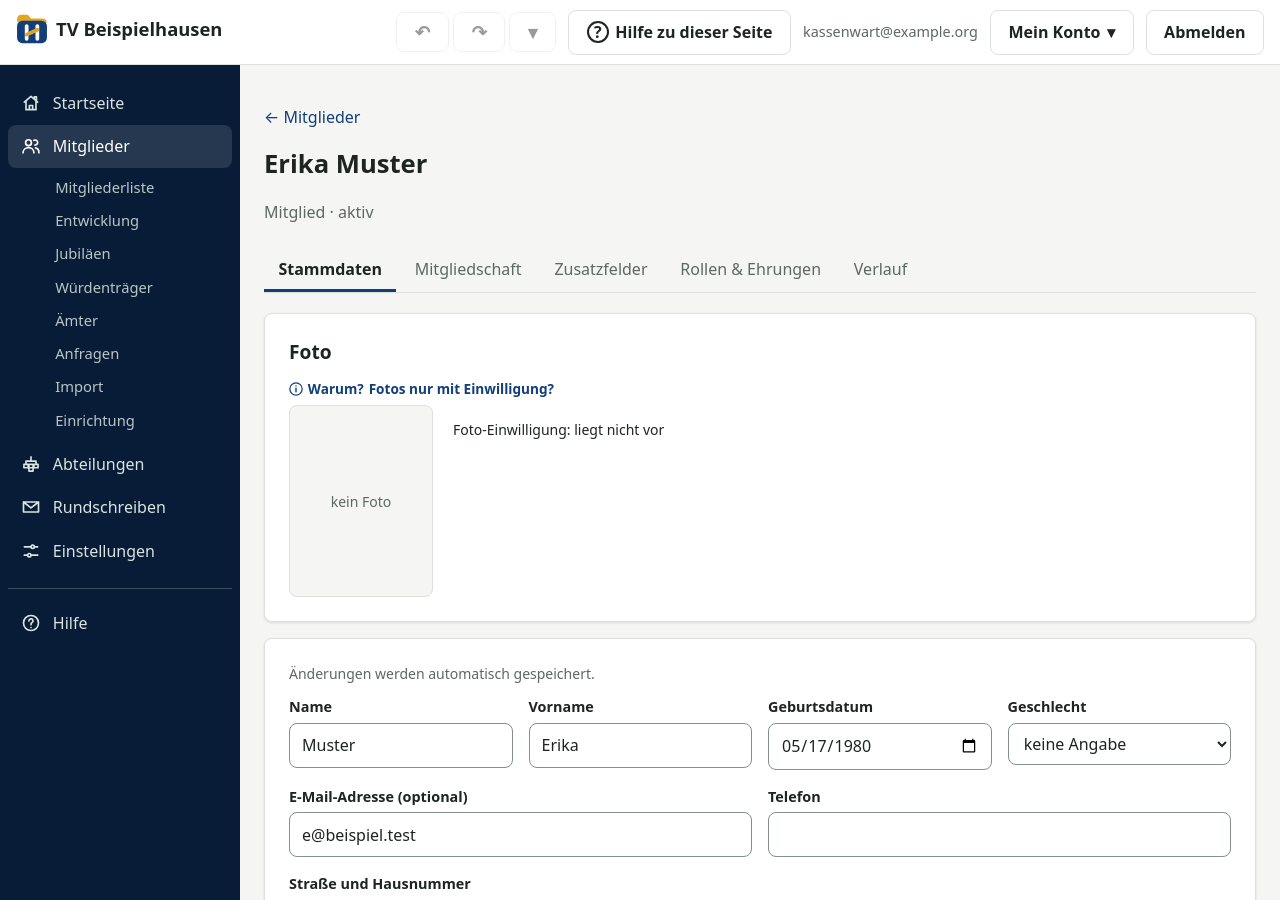
Rückgängig und Wiederherstellen › nimmt die letzte Änderung zurück und stellt sie wieder her
Expected: the button named "Letzte Änderung rückgängig machen" is disabled, top-left (396, 12), bottom-right (449, 52)
Replace the text in the field labelled "Vorname" with "Erica" at (640, 745), box top-left (528, 722), bottom-right (752, 768)
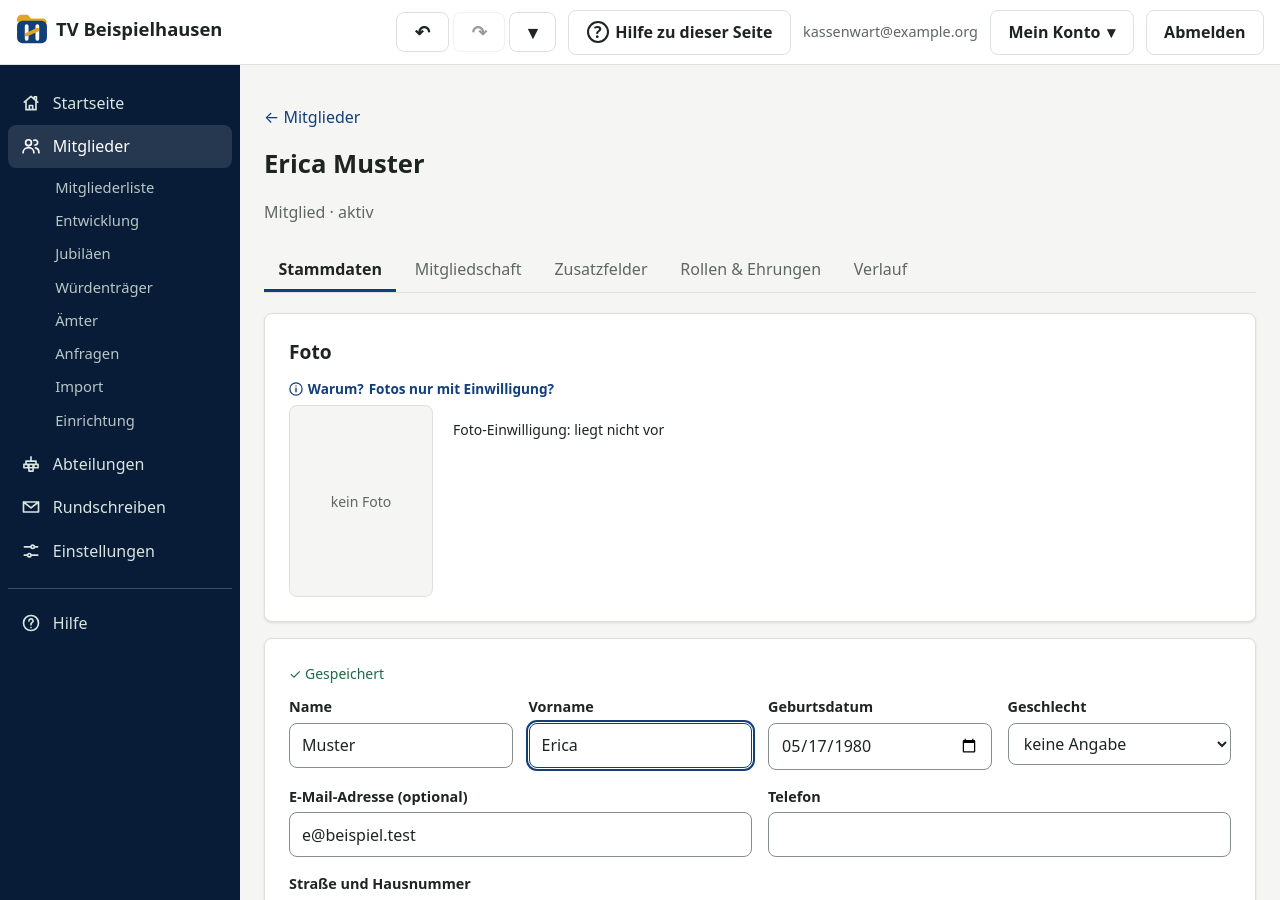
Now the button named "Letzte Änderung rückgängig machen" is enabled
Click the button named "Letzte Änderung rückgängig machen" at (423, 32), box top-left (396, 12), bottom-right (449, 52)
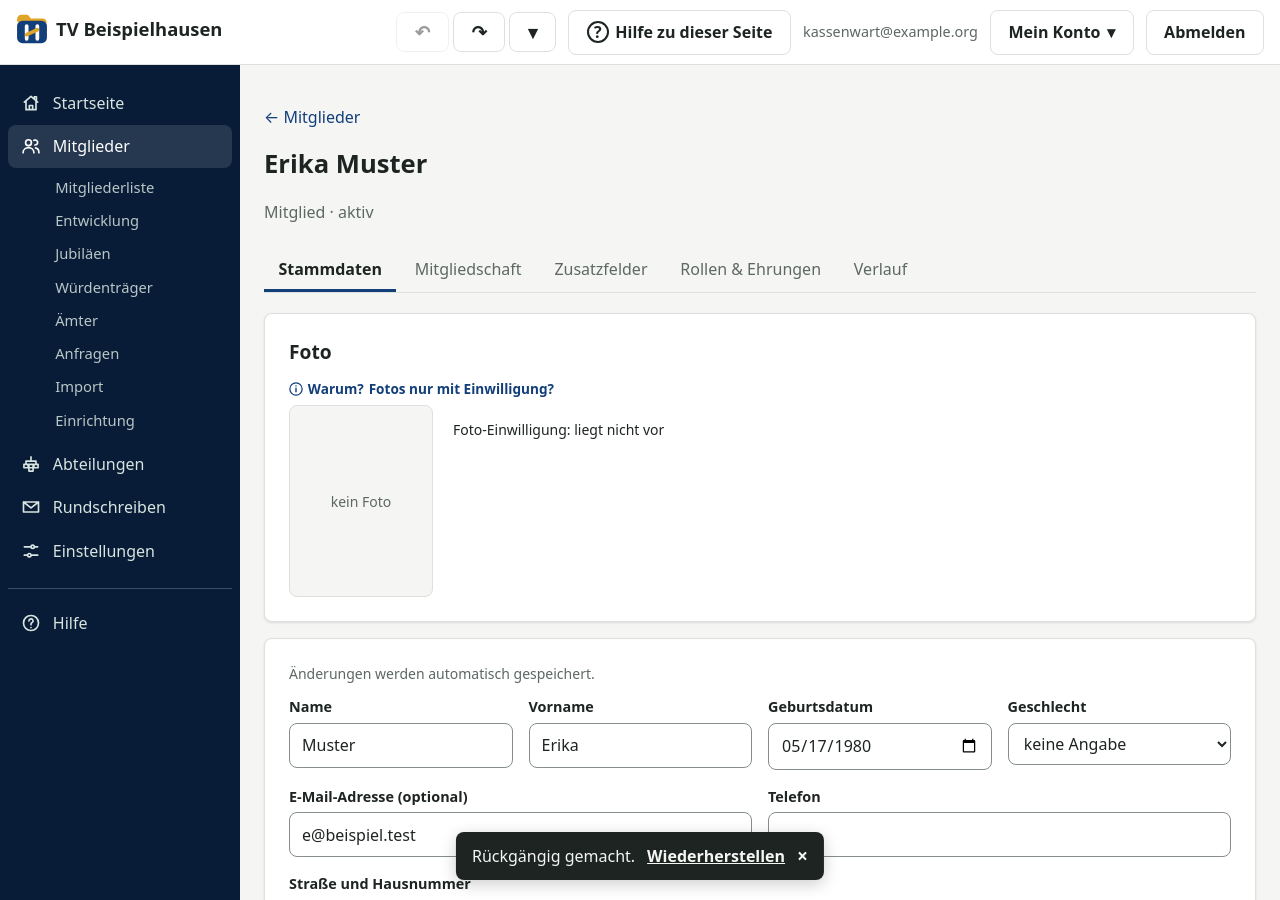
Now the text "Rückgängig gemacht." is shown, box top-left (472, 844), bottom-right (635, 868)
Now the field labelled "Vorname" holds "Erika", box top-left (528, 722), bottom-right (752, 768)
Now the button named "Rückgängig Gemachtes wiederherstellen" is enabled
Click the button named "Rückgängig Gemachtes wiederherstellen" at (479, 32), box top-left (453, 12), bottom-right (506, 52)
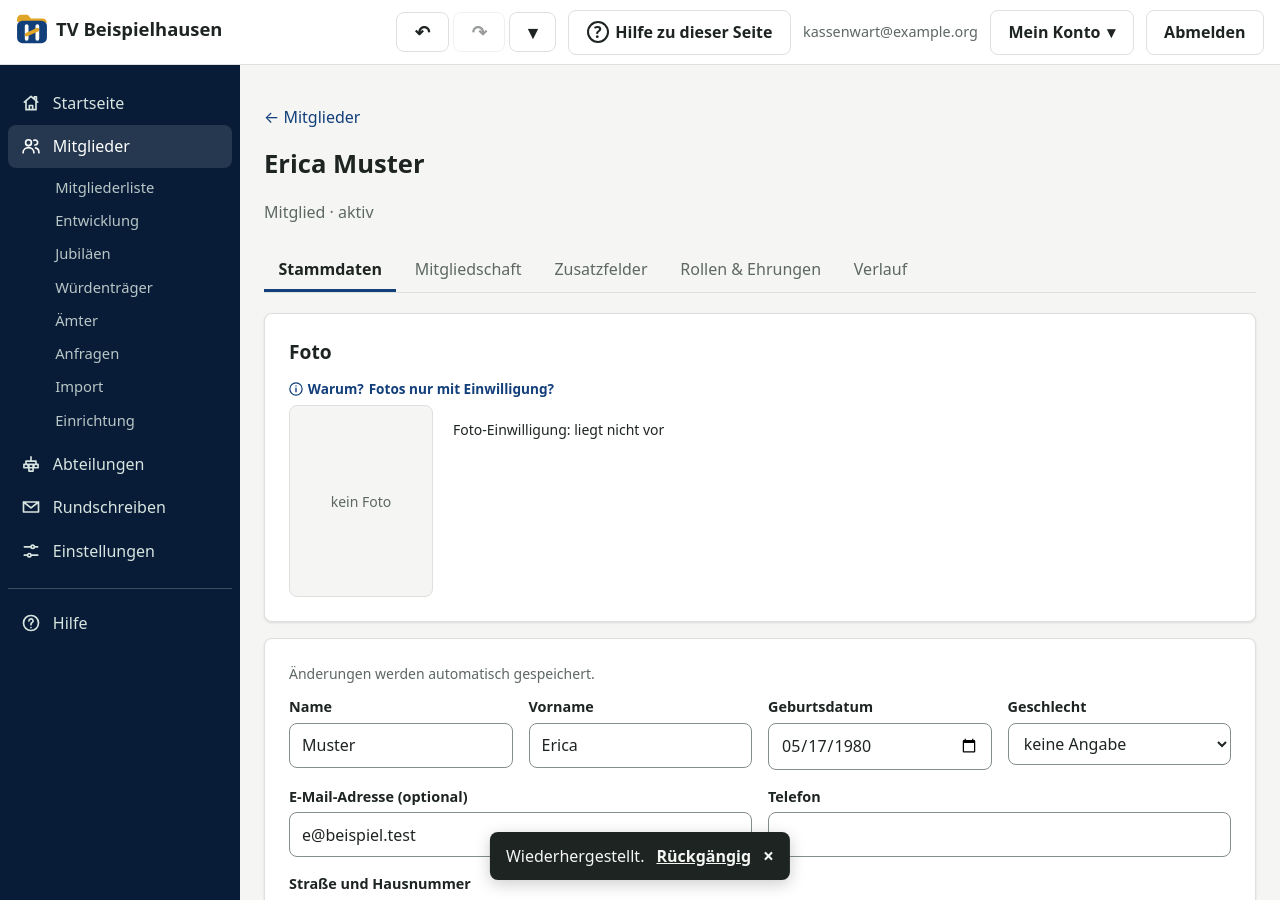
Now the field labelled "Vorname" holds "Erica", box top-left (528, 722), bottom-right (752, 768)
Now the button named "Letzte Änderung rückgängig machen" is enabled, box top-left (396, 12), bottom-right (449, 52)
